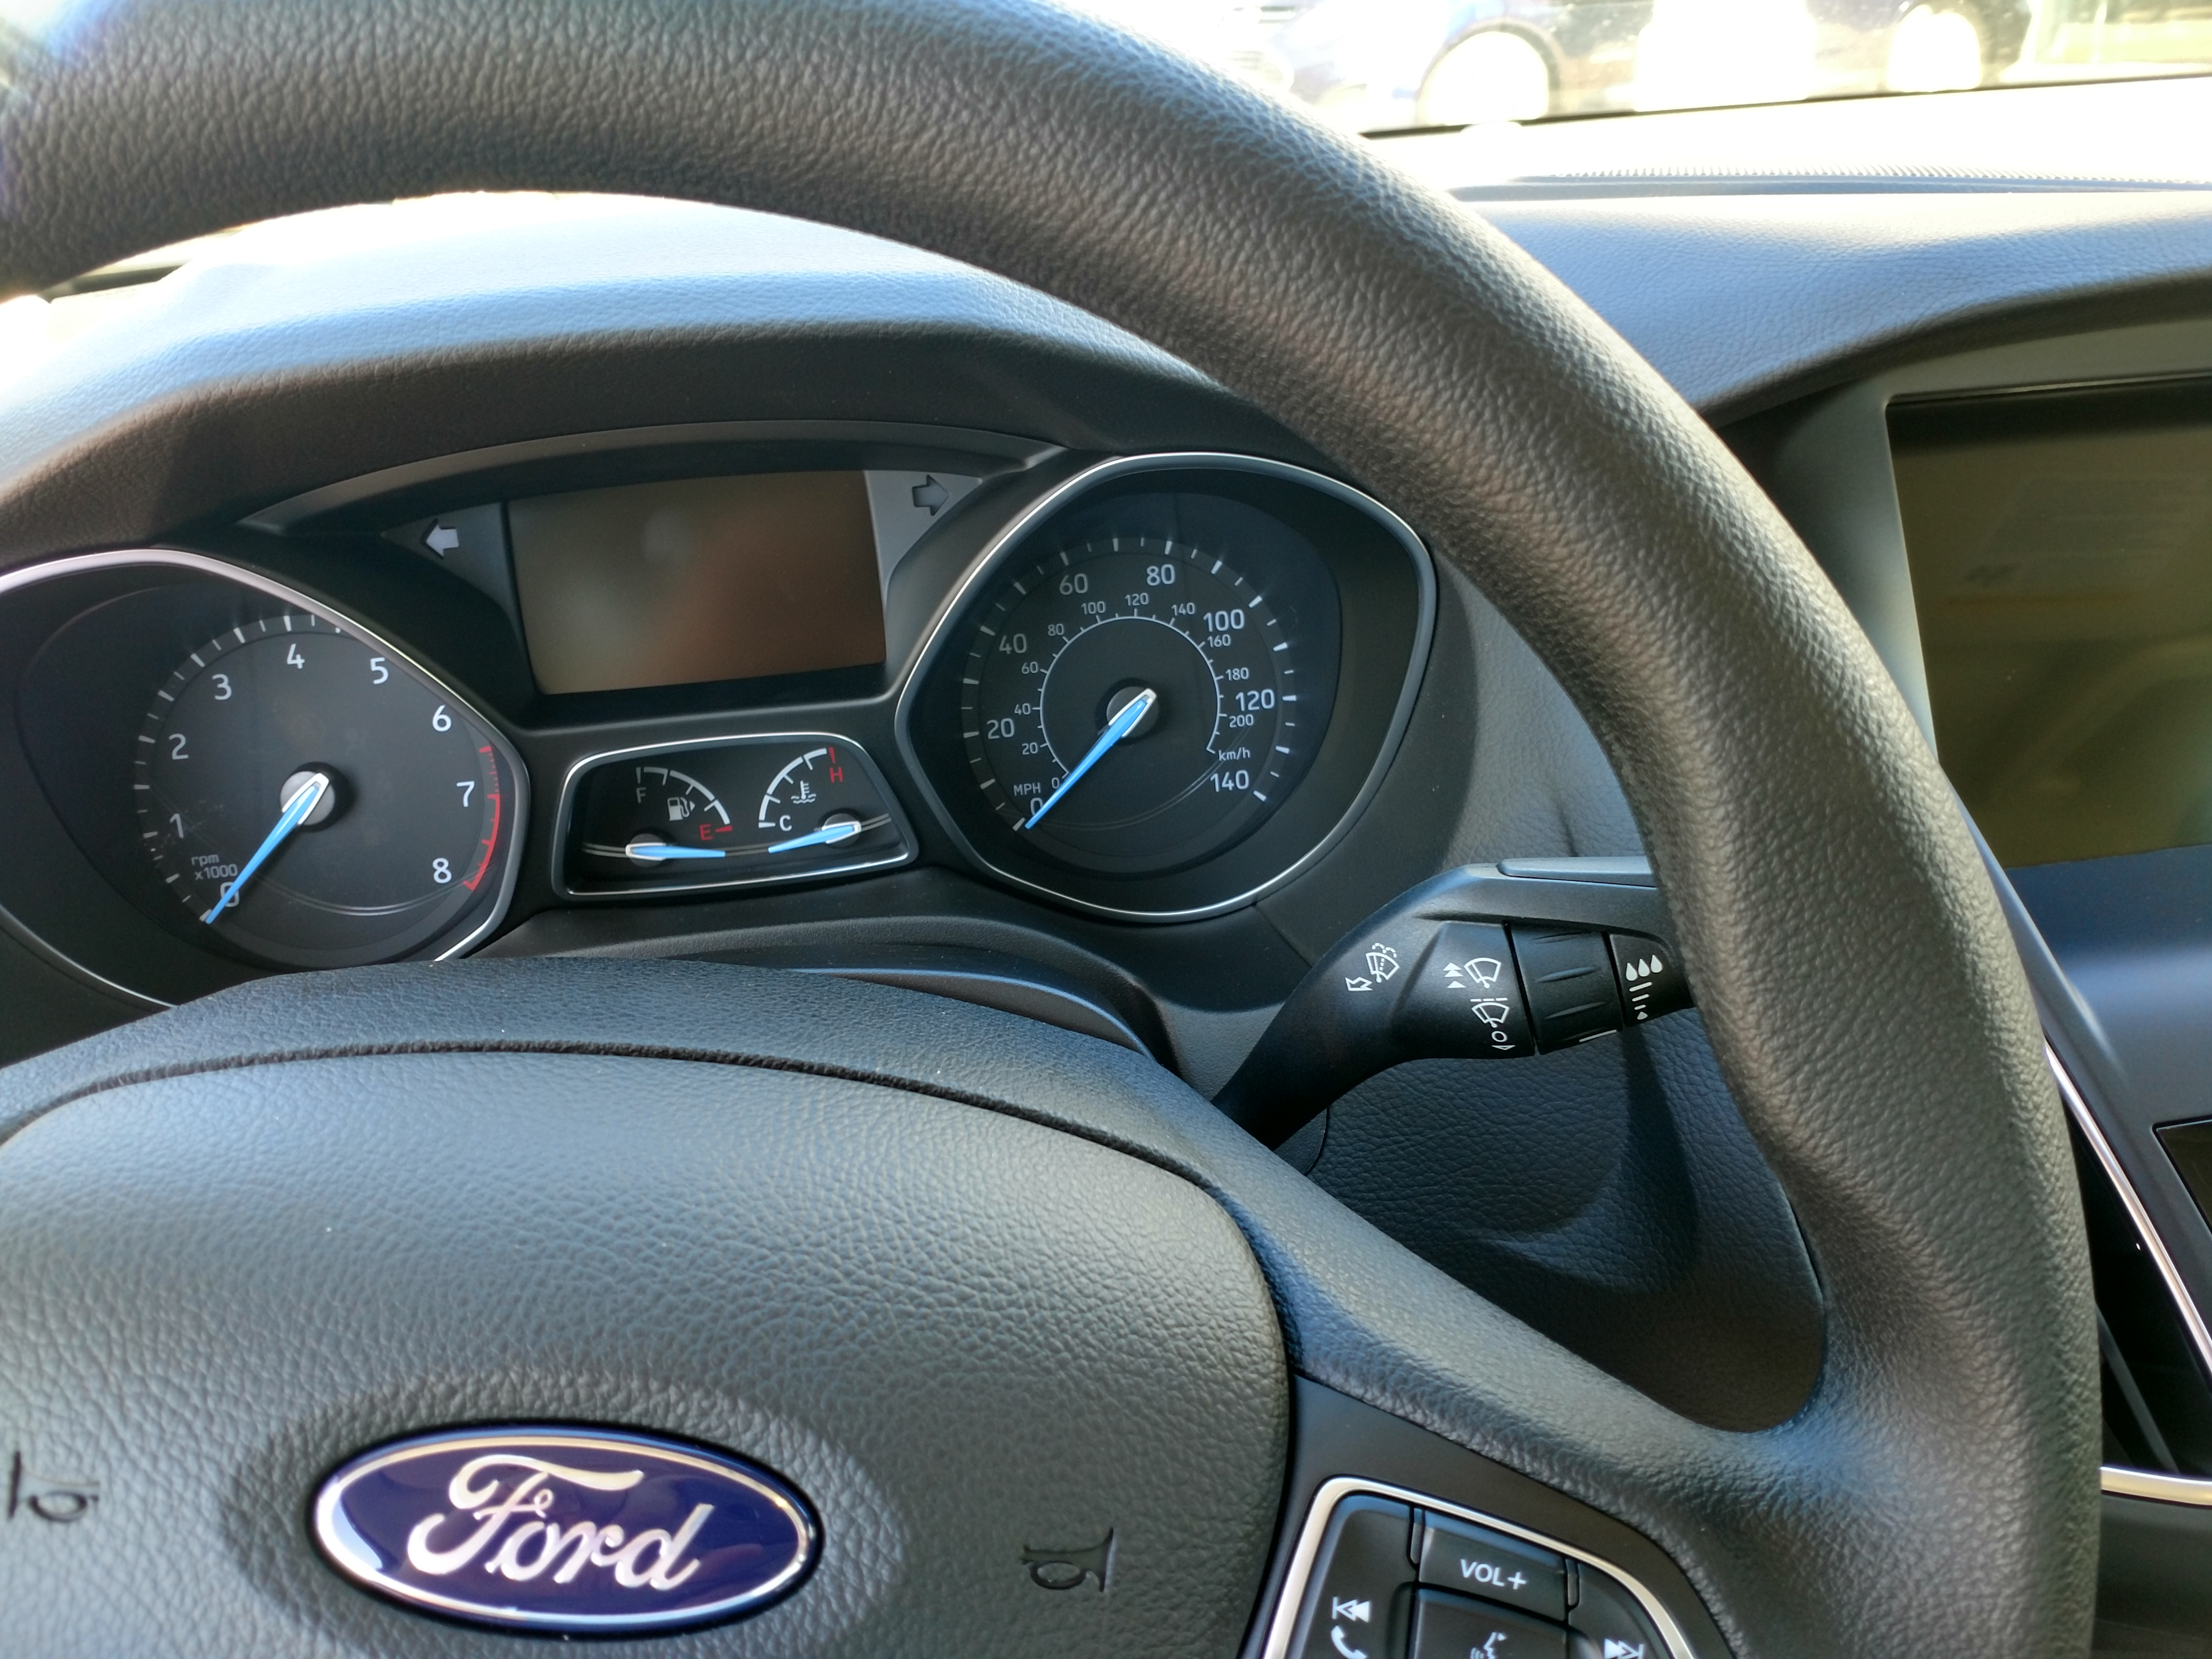Ford: (294, 1408, 840, 1643)
